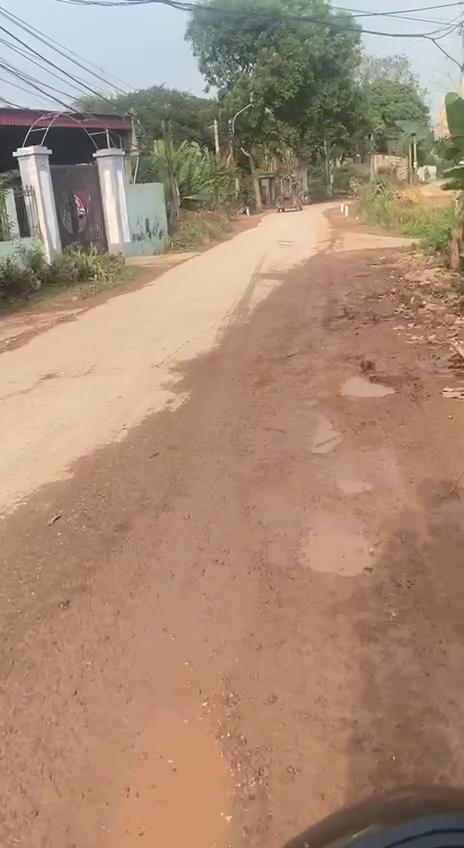pothole: (100, 685, 268, 848), (290, 516, 380, 576), (332, 369, 400, 403), (305, 412, 346, 453), (334, 473, 382, 498)
